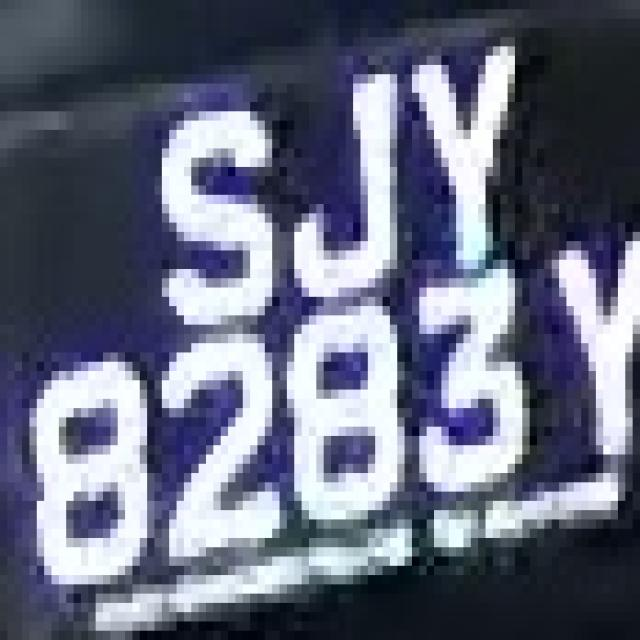2: (140, 287, 302, 594)
3: (397, 241, 530, 538)
8: (287, 260, 404, 538), (37, 316, 154, 584)
J: (265, 46, 412, 325)
S: (147, 65, 272, 325)
Y: (397, 9, 552, 288), (540, 228, 640, 488), (6, 3, 8, 8)
